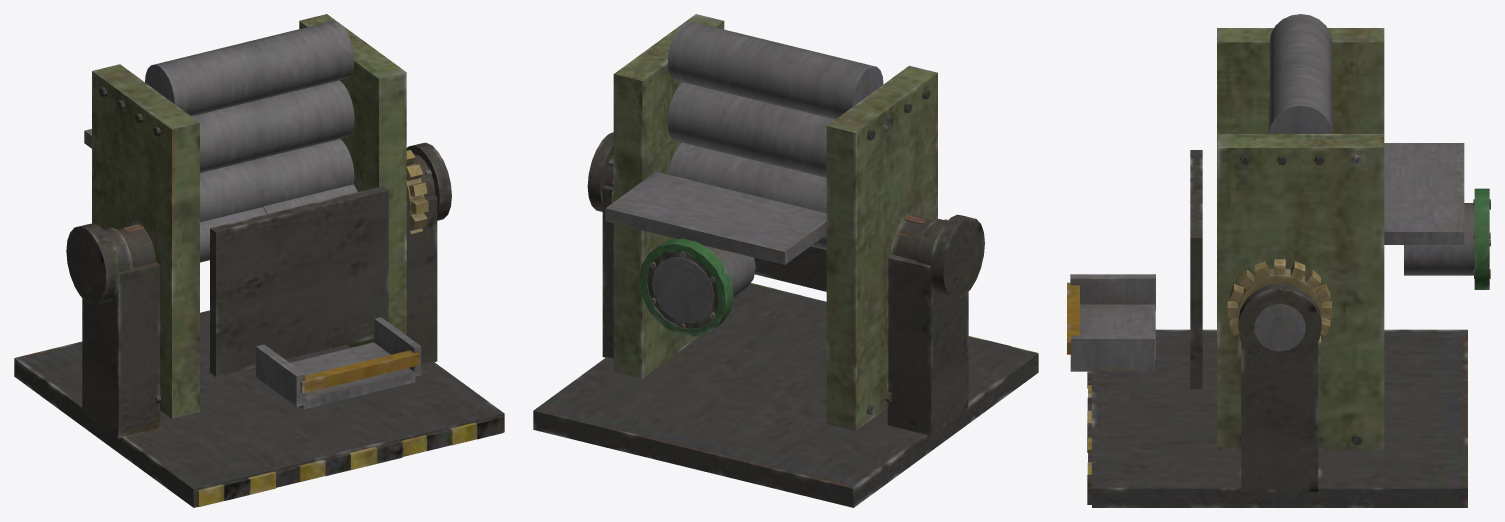
Rendered from feCalender.glb.
3 views of the same model, side by side, from view 1: azimuth 30°, elevation 25°; view 2: azimuth 150°, elevation 25°; view 3: azimuth 270°, elevation 25° (orthographic). The views are drawn at different scales.
Parts seen in each view (by area): view 1: feCalender_Base, FeSpin_x2_Roll2, FeSpin_x2_Rev_Roll1, FeSpin_DriveShaft, FeSpin_x2_Roll0; view 2: feCalender_Base, FeSpin_x2_Roll2, FeSpin_x2_Rev_Roll1, FeSpin_DriveShaft, FeSpin_x2_Roll0; view 3: feCalender_Base, FeSpin_DriveShaft, FeSpin_x2_Roll2.
Boxes of the visible parts, x1,y1,x2,y2 form: feCalender_Base: (14, 14, 504, 507); FeSpin_x2_Roll2: (145, 21, 354, 116); FeSpin_x2_Rev_Roll1: (192, 80, 354, 172); FeSpin_DriveShaft: (66, 142, 451, 304); FeSpin_x2_Roll0: (200, 139, 354, 222); feCalender_Base: (533, 14, 1038, 507); FeSpin_x2_Roll2: (668, 21, 883, 119); FeSpin_x2_Rev_Roll1: (667, 82, 835, 177); FeSpin_DriveShaft: (587, 132, 984, 298); FeSpin_x2_Roll0: (668, 142, 826, 236); feCalender_Base: (1067, 28, 1490, 507); FeSpin_DriveShaft: (1227, 259, 1331, 365); FeSpin_x2_Roll2: (1269, 14, 1331, 133).
Bounding box in the file's own units: 1 × 0.9756 × 1.02.
Materials: 1 (1 with a texture image).
